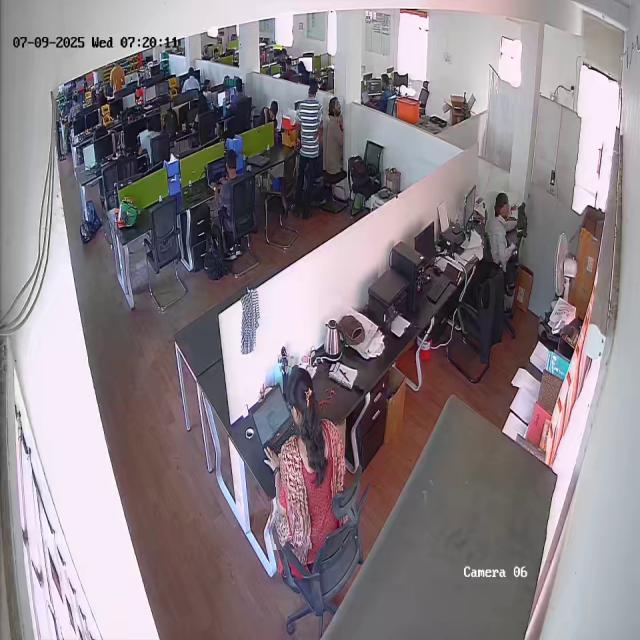person: (265, 365, 342, 550), (293, 79, 323, 220), (484, 191, 518, 263), (323, 97, 343, 172)
